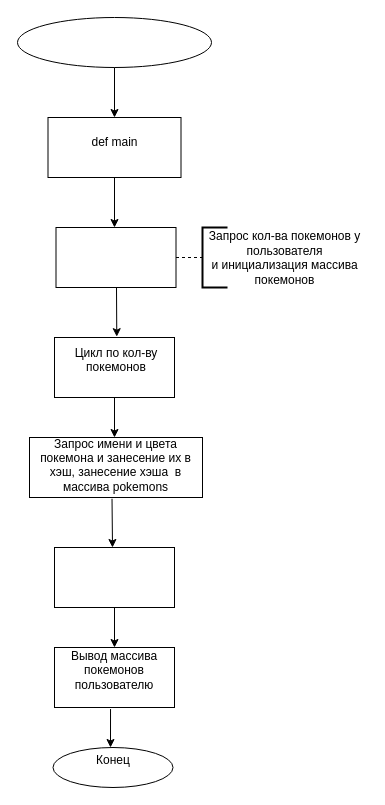
This 385x805 diagram has some shape labels left out. The box of each missing label's shape, as (x1, y1, x2, y2) in pixels:
add_pokemon: (55, 226, 176, 288)
show_pokemon: (54, 546, 174, 608)
Начало: (16, 16, 212, 68)
